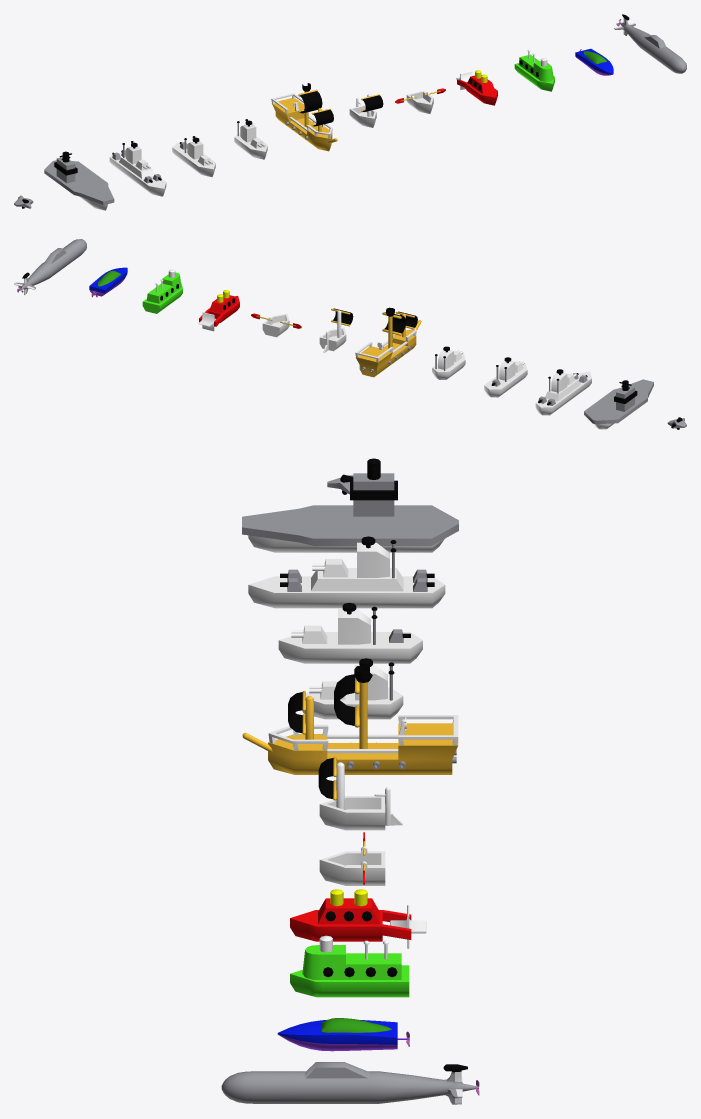
The model's file is Boats_low.fbx.
The picture shows the model from 3 angles, top to bottom: view 1: azimuth 30°, elevation 25°; view 2: azimuth 150°, elevation 25°; view 3: azimuth 270°, elevation 25°; orthographic projection. The views are drawn at different scales.
Visible parts, largest first — view 1: AircraftCarrier_low, PirateShip_low, Submarine_low, BattleShip_low, SteamBoat_low, Destroyer_low, PaddleBoat_low, Frigate_low, Speed_Boat_low, PirateShip_Parts_low, RowBoat_low, SailBoat_low (+1 smaller); view 2: AircraftCarrier_low, PirateShip_low, Submarine_low, BattleShip_low, SteamBoat_low, Destroyer_low, PaddleBoat_low, Speed_Boat_low, Frigate_low, SailBoat_low, RowBoat_low, PirateShip_Parts_low (+1 smaller); view 3: AircraftCarrier_low, Submarine_low, PirateShip_low, BattleShip_low, SteamBoat_low, Destroyer_low, PaddleBoat_low, Speed_Boat_low, SailBoat_low, PirateShip_Parts_low, Frigate_low, RowBoat_low (+2 smaller).
Part boxes in pixels (<box>): AircraftCarrier_low: <box>44,151,114,205</box>; PirateShip_low: <box>271,83,337,151</box>; Submarine_low: <box>614,14,686,73</box>; BattleShip_low: <box>109,146,166,196</box>; SteamBoat_low: <box>514,54,554,91</box>; Destroyer_low: <box>172,141,215,176</box>; PaddleBoat_low: <box>457,70,497,105</box>; Frigate_low: <box>234,124,267,159</box>; Speed_Boat_low: <box>575,48,613,75</box>; PirateShip_Parts_low: <box>271,93,332,138</box>; RowBoat_low: <box>406,90,433,113</box>; SailBoat_low: <box>349,94,376,127</box>; AircraftCarrier_low: <box>584,379,653,424</box>; PirateShip_low: <box>355,307,421,377</box>; Submarine_low: <box>14,239,86,294</box>; BattleShip_low: <box>535,371,591,415</box>; SteamBoat_low: <box>142,272,182,313</box>; Destroyer_low: <box>484,361,527,397</box>; PaddleBoat_low: <box>199,290,239,326</box>; Speed_Boat_low: <box>89,267,127,296</box>; Frigate_low: <box>432,350,465,379</box>; SailBoat_low: <box>319,310,346,351</box>; RowBoat_low: <box>262,313,289,337</box>; PirateShip_Parts_low: <box>355,327,416,361</box>; AircraftCarrier_low: <box>242,458,458,545</box>; Submarine_low: <box>221,1062,476,1104</box>; PirateShip_low: <box>242,665,458,774</box>; BattleShip_low: <box>248,542,445,608</box>; SteamBoat_low: <box>290,945,409,997</box>; Destroyer_low: <box>278,609,422,663</box>; PaddleBoat_low: <box>290,889,411,941</box>; Speed_Boat_low: <box>277,1018,397,1051</box>; SailBoat_low: <box>319,762,385,830</box>; PirateShip_Parts_low: <box>268,715,458,753</box>; Frigate_low: <box>302,664,403,719</box>; RowBoat_low: <box>319,846,385,885</box>.
Bounding box in the file's own units: 340 × 27.17 × 58.8.
